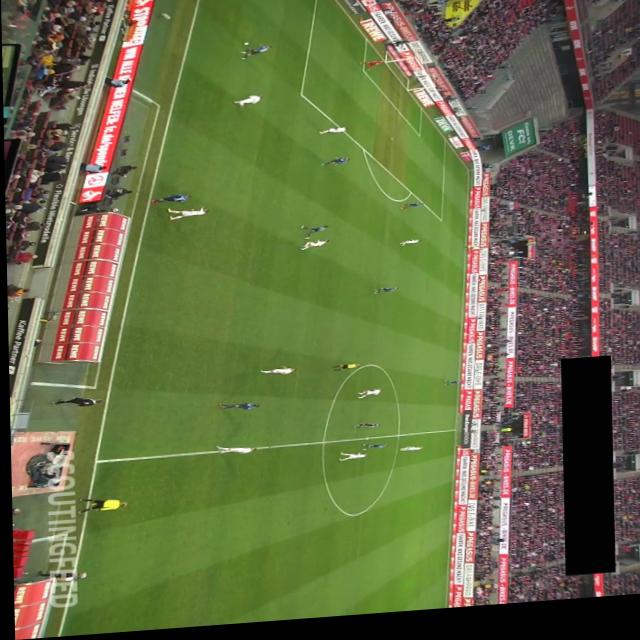goalkeeper: (357, 66, 383, 77)
player: (166, 208, 208, 223), (212, 446, 254, 460), (238, 48, 272, 64), (298, 228, 328, 244), (149, 196, 191, 207), (257, 368, 295, 380), (217, 404, 258, 415), (231, 98, 263, 112), (297, 243, 328, 255), (317, 162, 349, 172), (336, 456, 366, 466), (354, 394, 380, 404), (317, 132, 347, 140), (370, 292, 397, 300), (352, 427, 378, 435), (360, 448, 386, 456), (397, 245, 419, 253), (399, 209, 422, 216), (396, 452, 420, 457), (441, 386, 459, 392)
referee: (75, 496, 125, 515), (329, 368, 359, 376), (461, 251, 477, 258)
